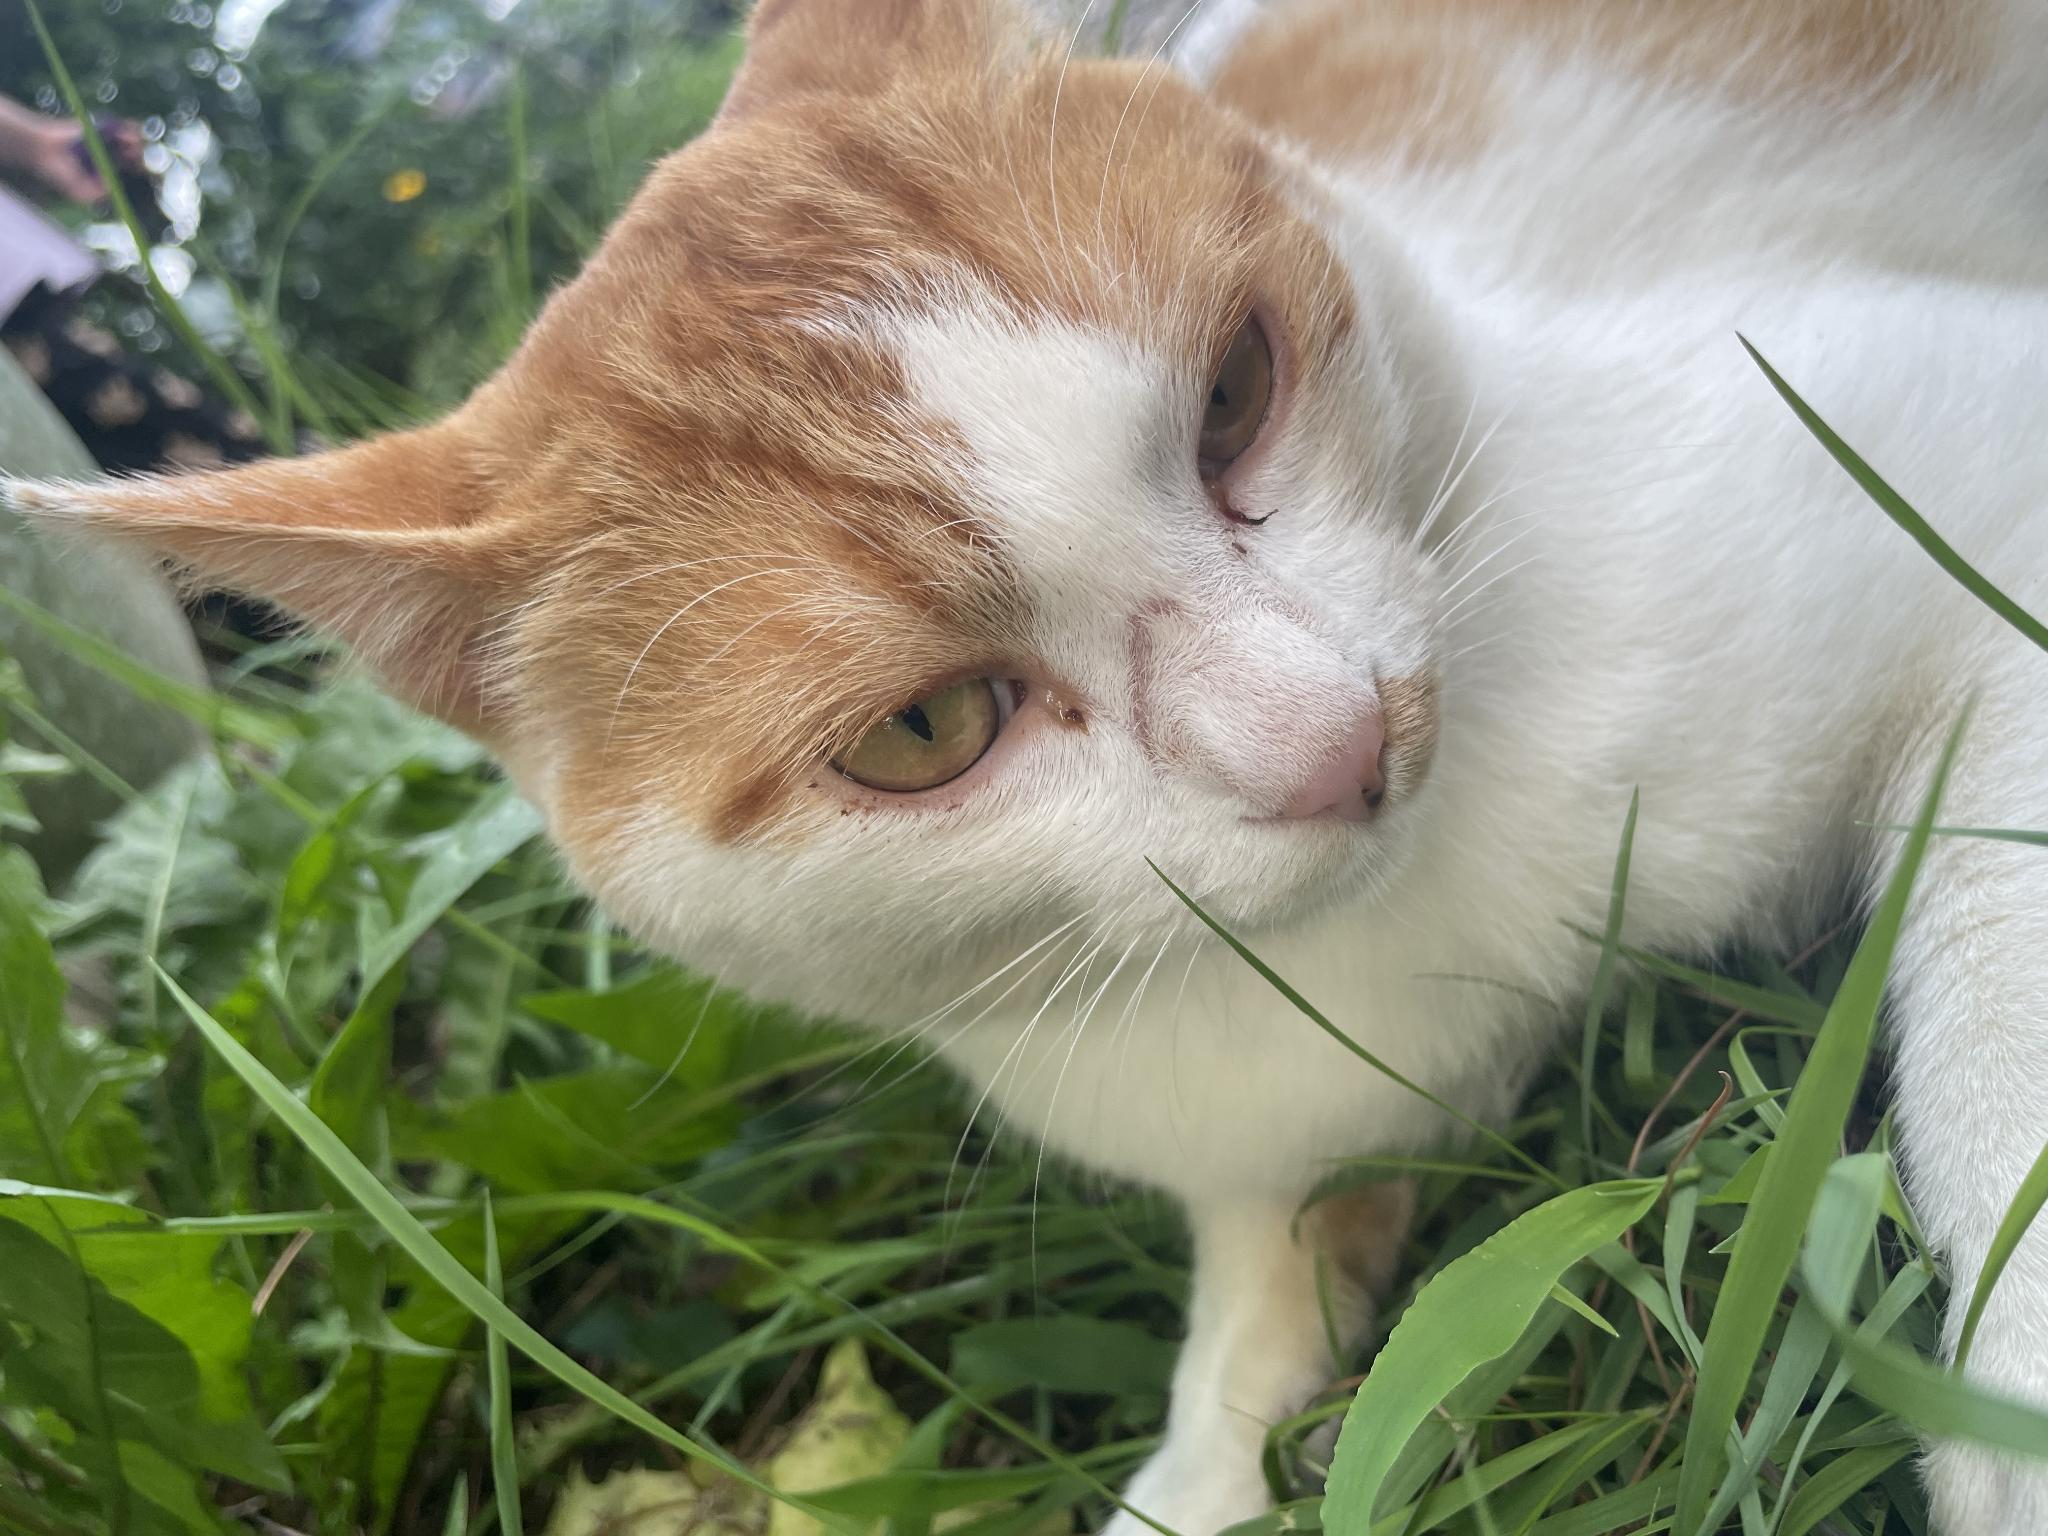cat: (2, 3, 1534, 1536)
